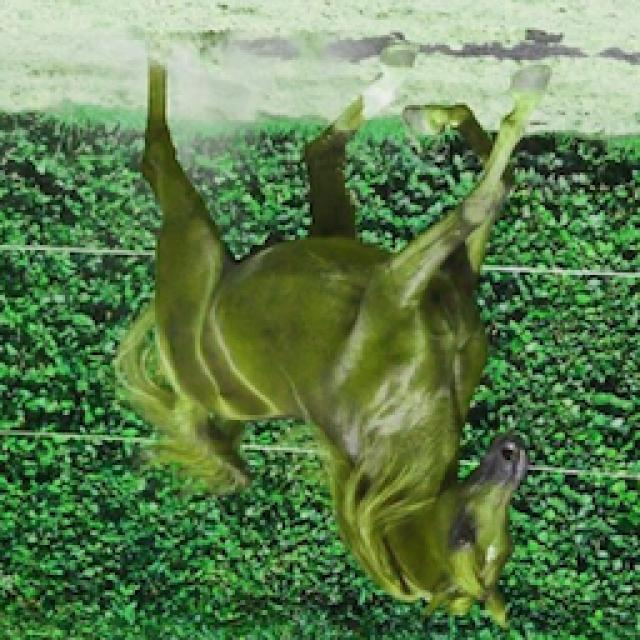Horse: (105, 38, 563, 630)
